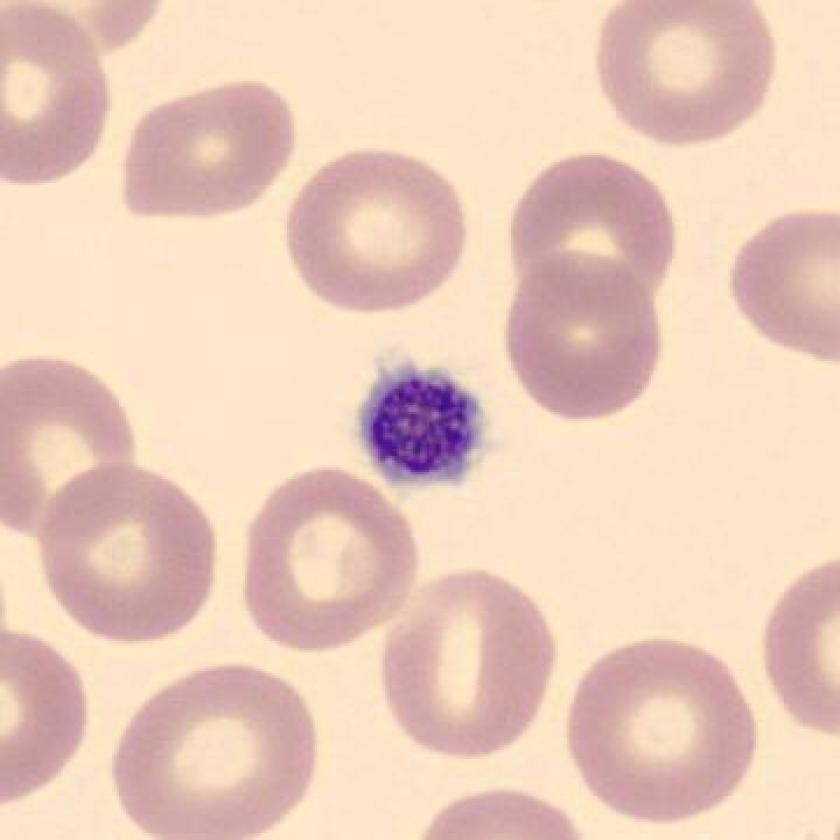platelets: (339, 341, 505, 506)
